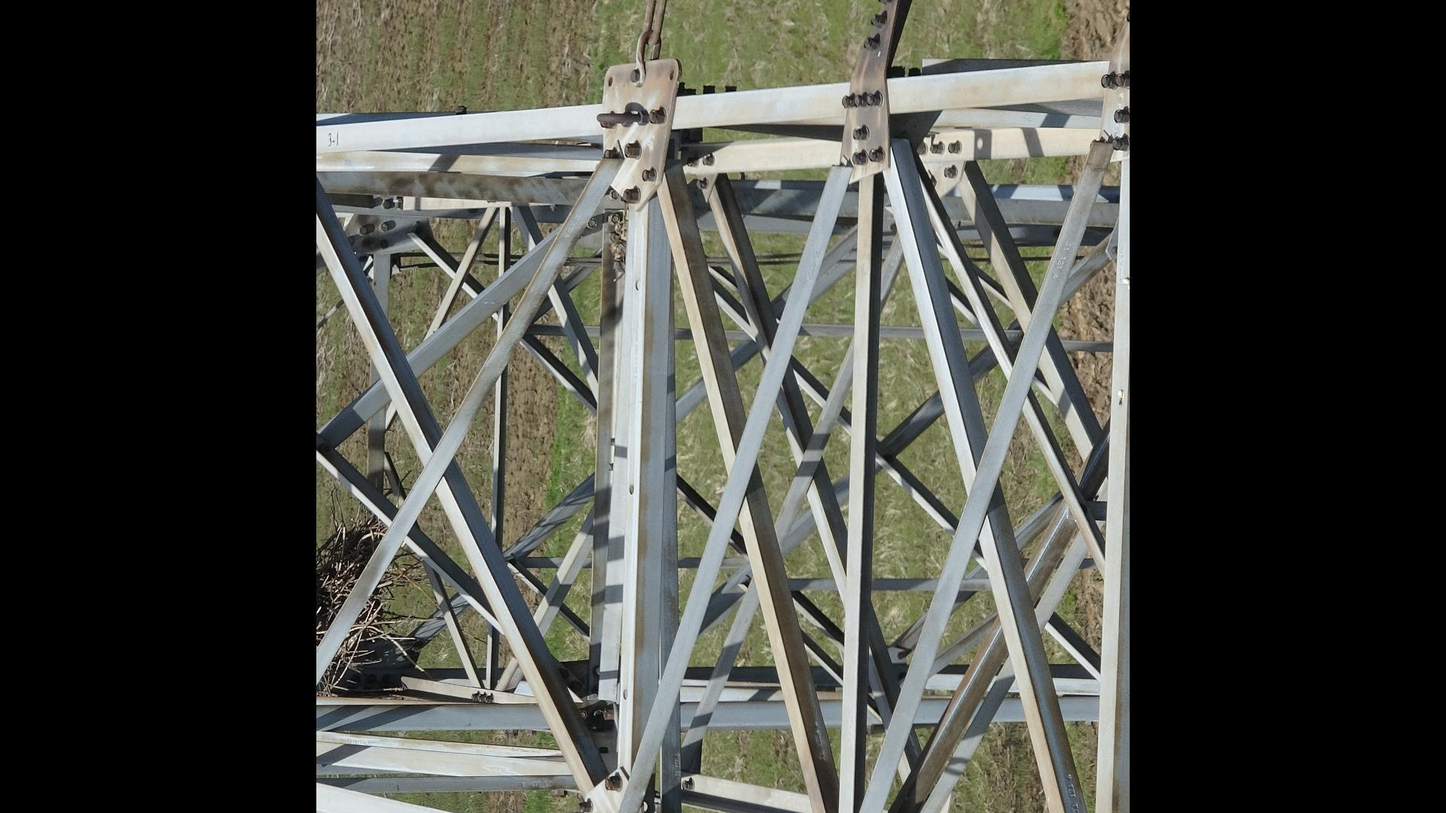nest: (316, 511, 399, 695)
